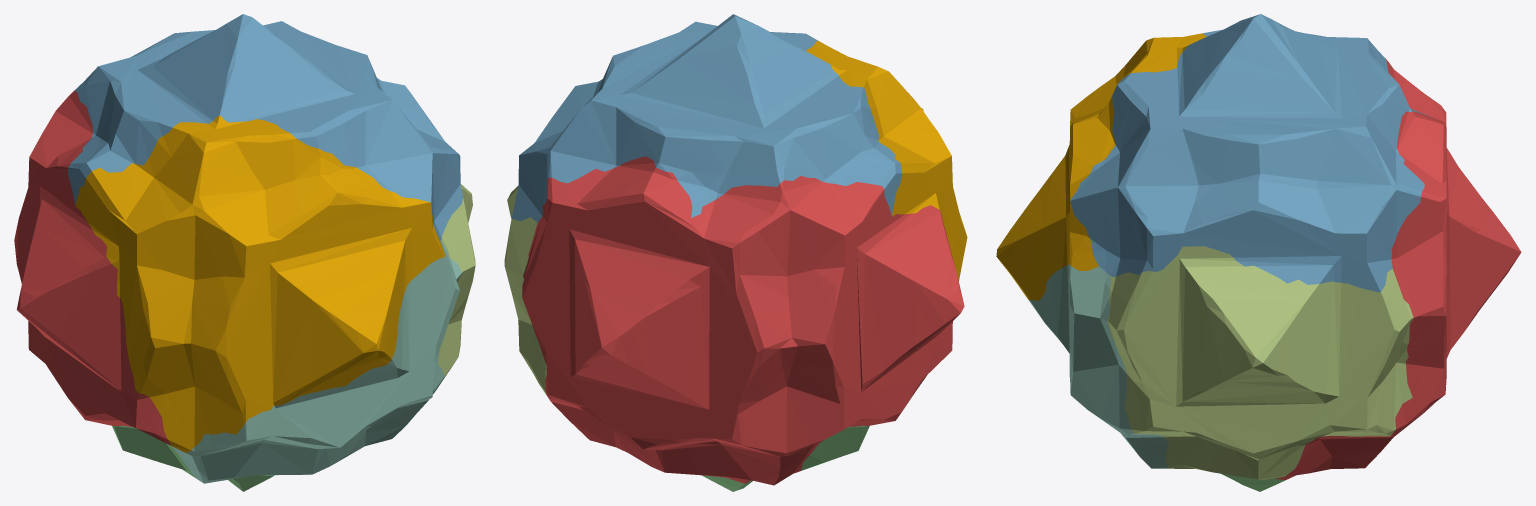
File: fractured_12_6pcs.glb
The picture shows the model from 3 angles, left to right: view 1: azimuth 30°, elevation 25°; view 2: azimuth 150°, elevation 25°; view 3: azimuth 270°, elevation 25°; orthographic projection.
Parts seen in each view (by area): view 1: piece_0.obj, piece_2.obj, piece_1.obj, piece_4.obj, piece_5.obj, piece_3.obj; view 2: piece_1.obj, piece_2.obj, piece_0.obj, piece_5.obj, piece_3.obj; view 3: piece_2.obj, piece_5.obj, piece_1.obj, piece_0.obj, piece_4.obj.
Boxes of the visible parts, bbox=[...] form: piece_0.obj: bbox=[75, 115, 445, 452]; piece_2.obj: bbox=[68, 14, 463, 240]; piece_1.obj: bbox=[14, 90, 170, 444]; piece_4.obj: bbox=[172, 240, 461, 483]; piece_5.obj: bbox=[438, 184, 475, 377]; piece_3.obj: bbox=[112, 425, 274, 491]; piece_1.obj: bbox=[522, 156, 964, 485]; piece_2.obj: bbox=[511, 14, 902, 222]; piece_0.obj: bbox=[806, 40, 967, 281]; piece_5.obj: bbox=[504, 186, 546, 394]; piece_3.obj: bbox=[702, 425, 869, 491]; piece_2.obj: bbox=[1070, 14, 1430, 292]; piece_5.obj: bbox=[1107, 246, 1413, 480]; piece_1.obj: bbox=[1275, 58, 1521, 479]; piece_0.obj: bbox=[996, 33, 1206, 300]; piece_4.obj: bbox=[1029, 264, 1168, 468].
Bounding box in the file's own units: 0.9951 × 1 × 0.9982.
